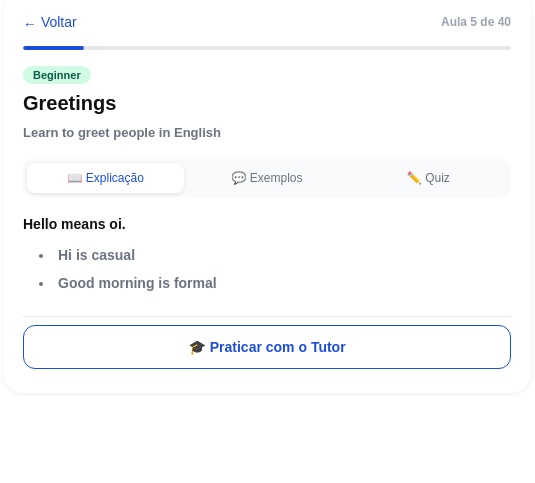
Scenario: LessonView › switches between the explanation, examples, and quiz tabs
The image size is (535, 483).
Expected: the element with class "explanation" is shown, 23,216 -> 217,291
Step 1. Click the button with class "tab" showing "💬 Exemplos" → (267, 178), box 188,162 -> 346,192
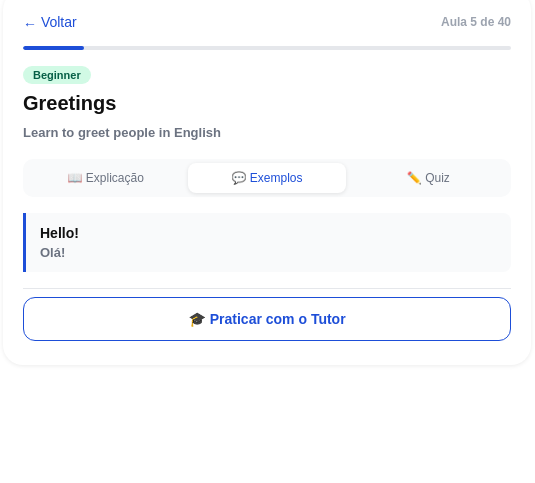
Expected: the text with class "example-en" reads "Hello!", 40,224 -> 79,240
Step 2. Click the button with class "tab" showing "✏️ Quiz" → (428, 178), box 350,162 -> 507,192
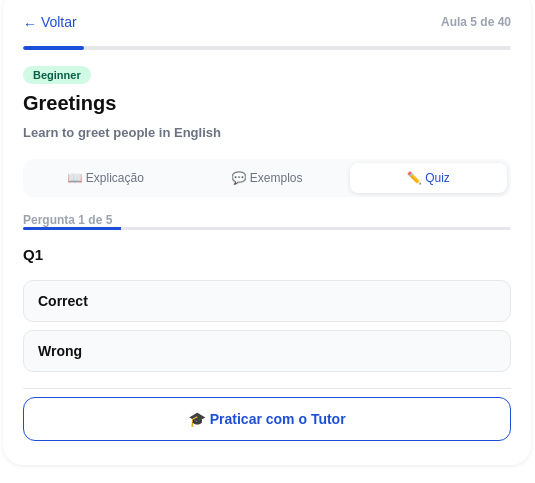
Expected: the text "Q1" is shown, 23,246 -> 43,262
